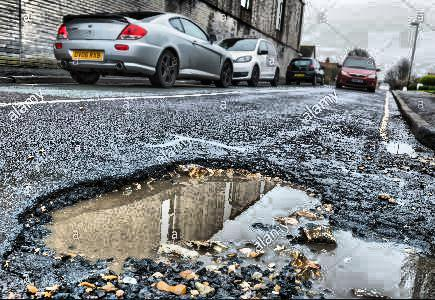pothole: (13, 153, 340, 284), (342, 231, 430, 300), (382, 137, 415, 155)
